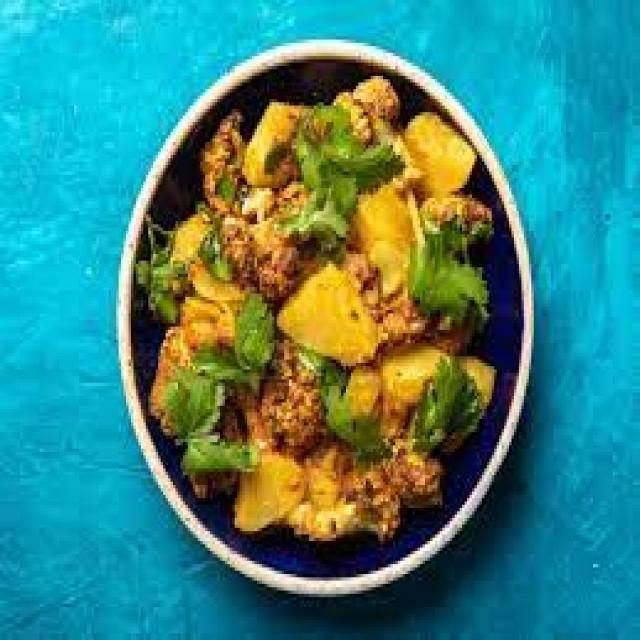Aloo Gobi: (155, 85, 502, 551)
